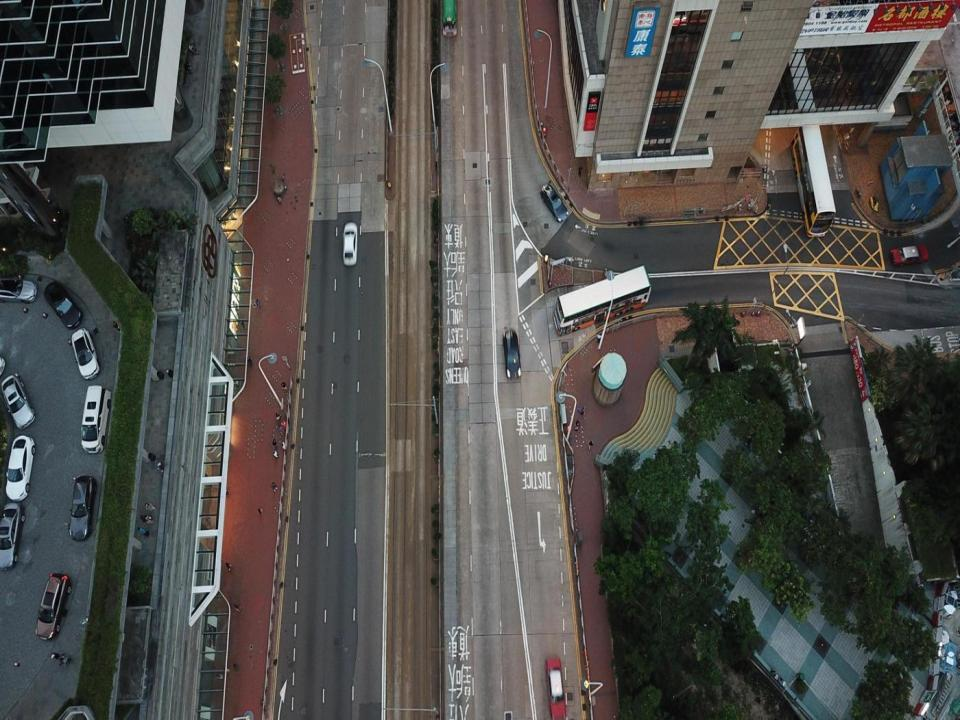bus: (552, 264, 651, 341), (792, 117, 836, 238), (441, 0, 458, 39)
car: (36, 572, 72, 640), (41, 282, 84, 332), (5, 435, 38, 500), (0, 373, 36, 428), (70, 476, 96, 543), (0, 504, 26, 570), (70, 326, 99, 380), (546, 656, 566, 719), (500, 327, 520, 380), (542, 185, 568, 222), (890, 243, 932, 265), (0, 278, 38, 302), (341, 220, 358, 264)
van: (82, 386, 111, 454)
